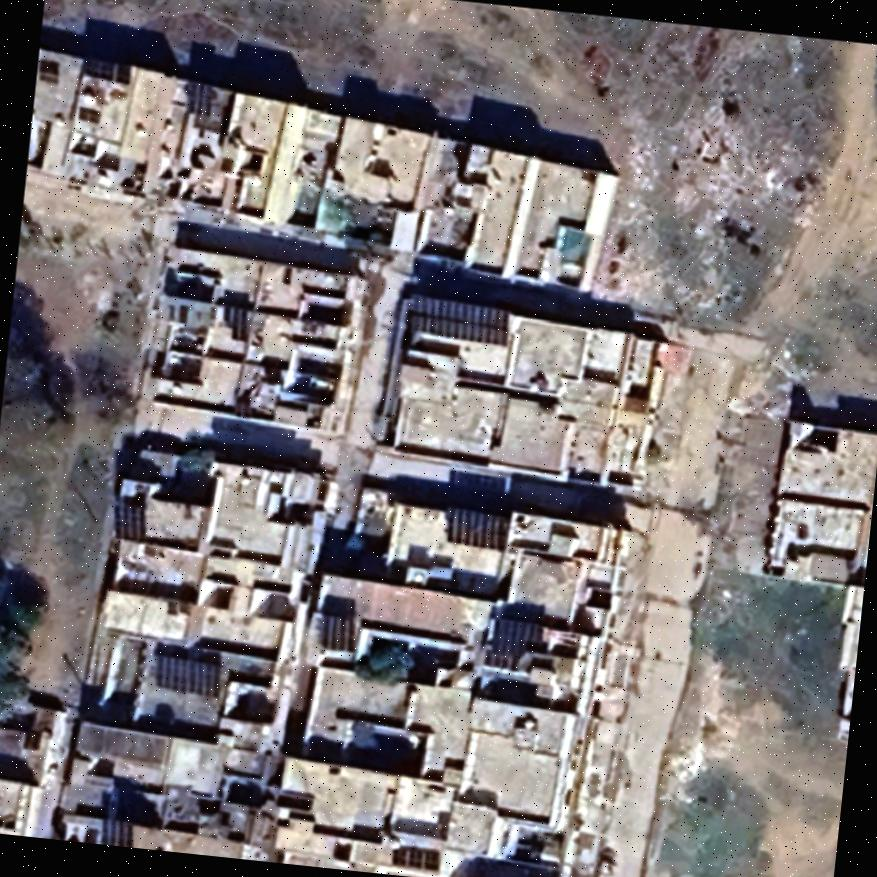Solarpanel: (399, 289, 516, 348), (147, 646, 229, 702), (437, 499, 515, 554), (480, 608, 544, 674), (105, 493, 152, 545), (314, 606, 361, 656), (389, 839, 445, 875), (95, 812, 138, 848)
